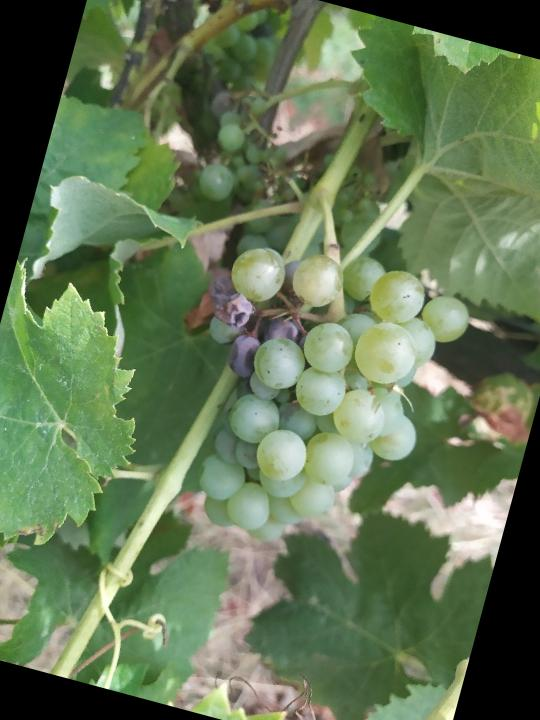grape: (149, 216, 482, 581)
